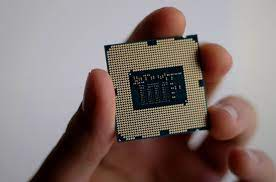processor: (104, 34, 211, 144)
